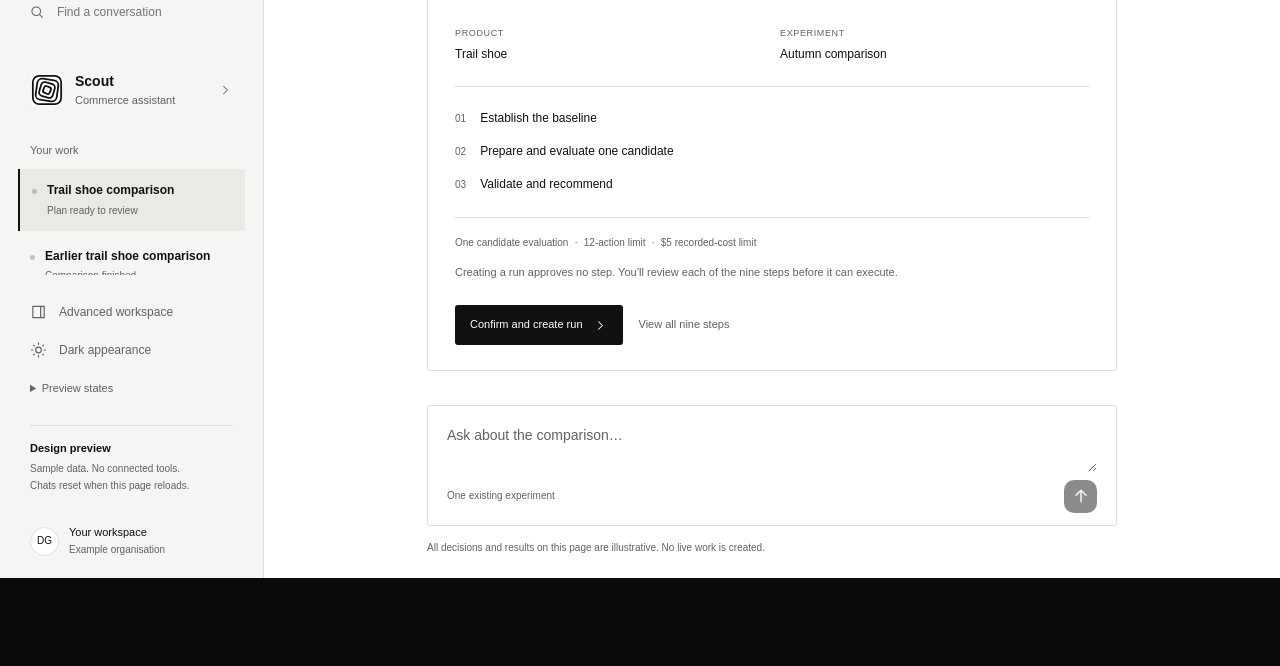
Test: sample workspace interaction boundaries › does not present planned inputs and candidate text as completed evidence
The image size is (1280, 666).
(page scrolled)
Click the button "Confirm and create run": click(539, 325) [455, 305, 622, 345]
(page scrolled)
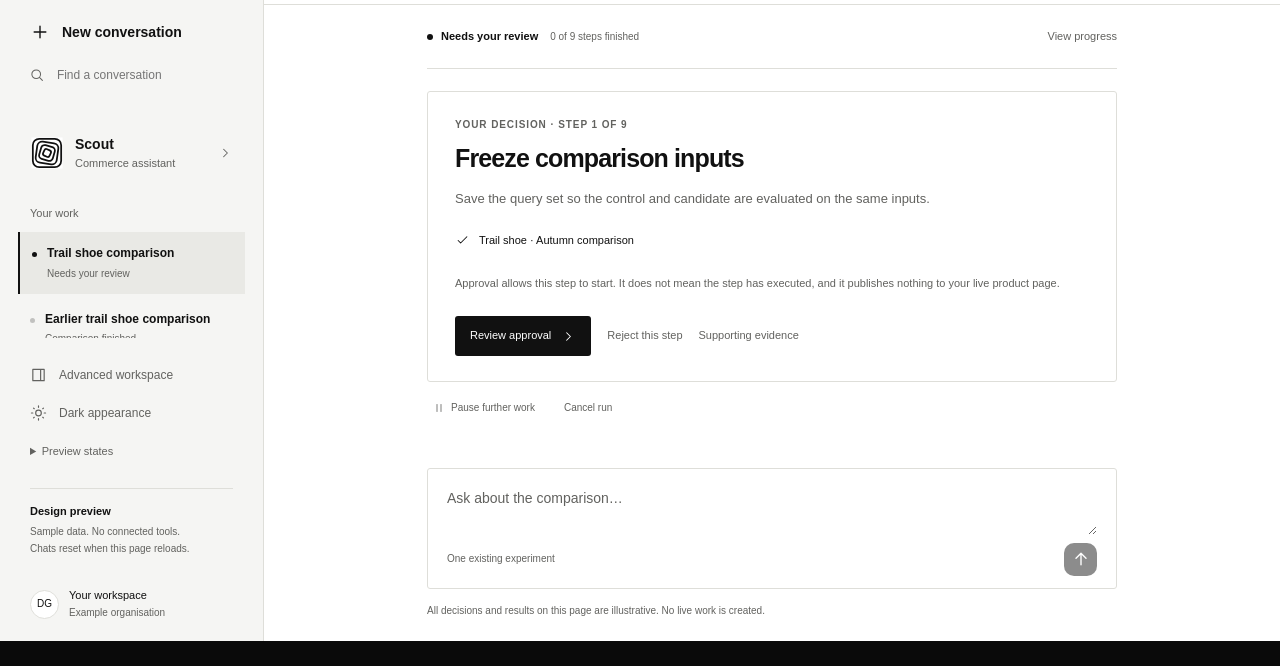
Click the button "Supporting evidence": click(749, 336) [698, 323, 799, 349]
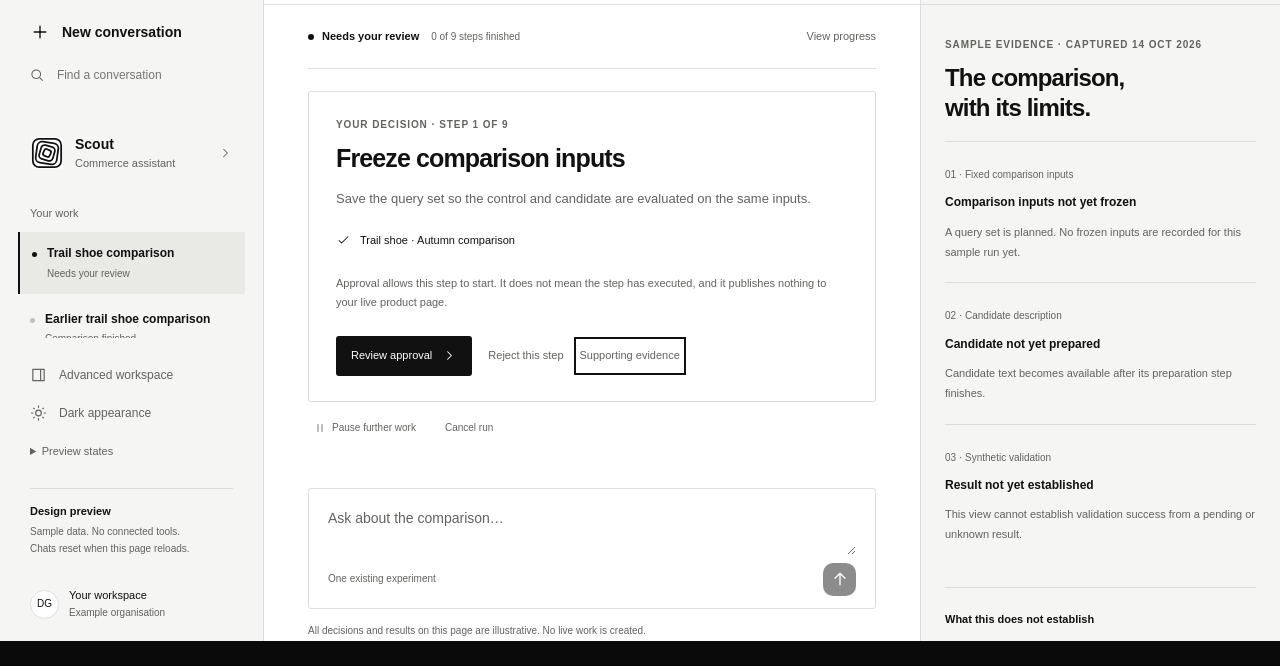
Result: the text "Comparison inputs not yet frozen" is shown at [945, 195, 1136, 209]
Result: the text "Candidate not yet prepared" is shown at [945, 337, 1100, 351]
